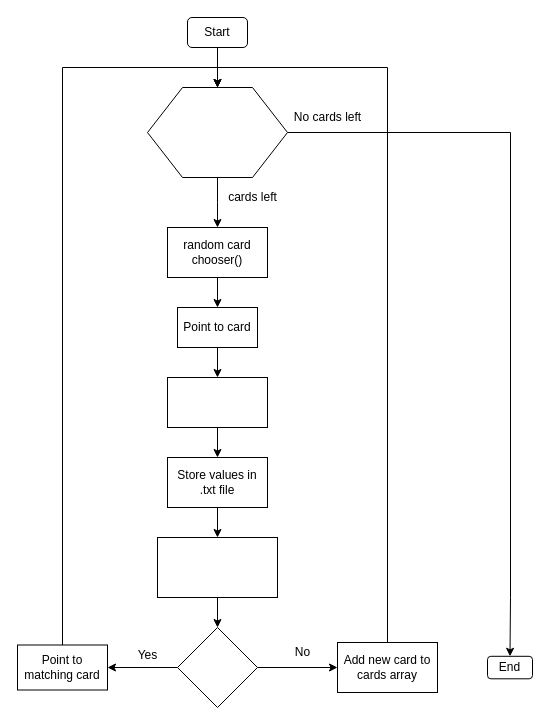
The diagram is 550 pixels wide and 725 high, and some of its shapes have lost their labels. Each missing label, with the box of its shape:
Card Match?: (176, 626, 258, 708)
Conditioning loop required to see if there are any cards left: (146, 86, 288, 178)
Read .txt file and compare values to values in cards array: (156, 536, 278, 598)
Read and recognise card(): (166, 376, 268, 428)
